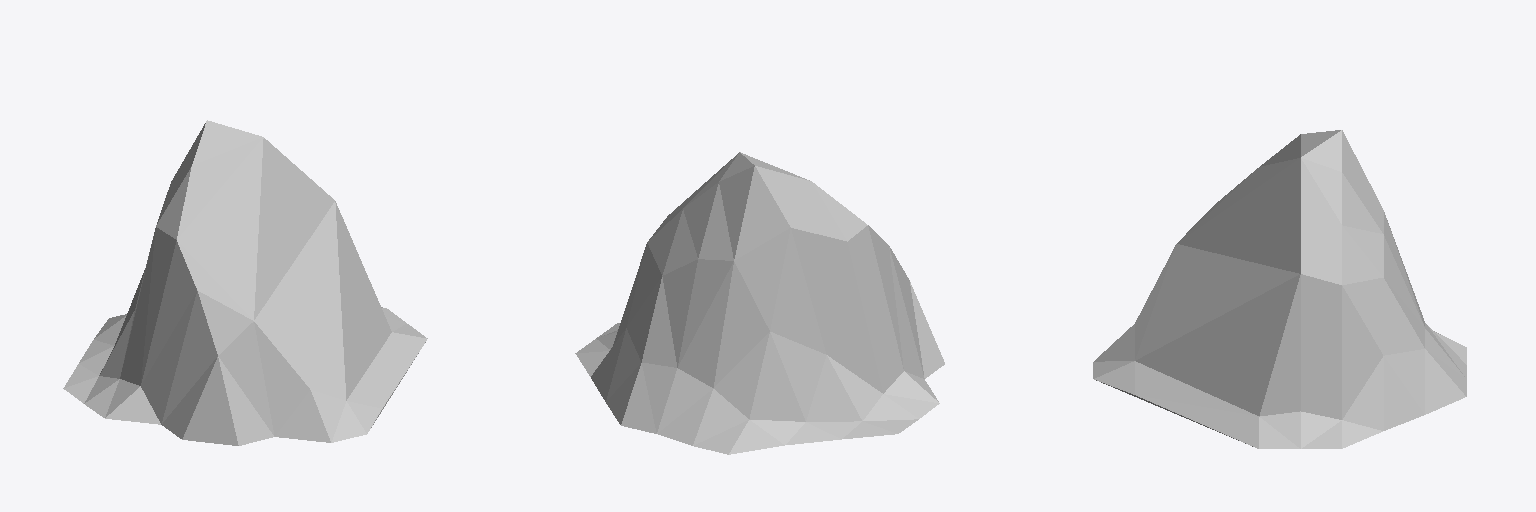
File: tree_56.obj
3 renders of one model, left to right at view 1: azimuth 30°, elevation 25°; view 2: azimuth 150°, elevation 25°; view 3: azimuth 270°, elevation 25°, orthographic.
Visible parts, largest first — view 1: tree_56_minus_dtm; view 2: tree_56_minus_dtm; view 3: tree_56_minus_dtm.
Boxes of the visible parts, x1=… form: tree_56_minus_dtm: x1=63, y1=120, x2=427, y2=445; tree_56_minus_dtm: x1=575, y1=152, x2=944, y2=454; tree_56_minus_dtm: x1=1093, y1=130, x2=1466, y2=448.
Bounding box in the file's own units: 9 × 6.25 × 9.